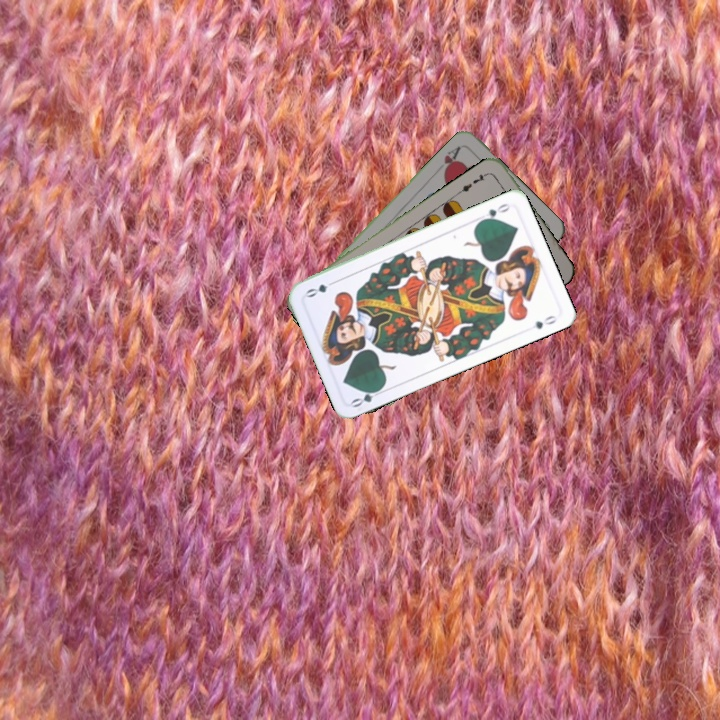E7: (455, 168, 491, 195)
GO: (347, 383, 387, 410), (476, 199, 513, 225)
HA: (439, 142, 464, 177)
